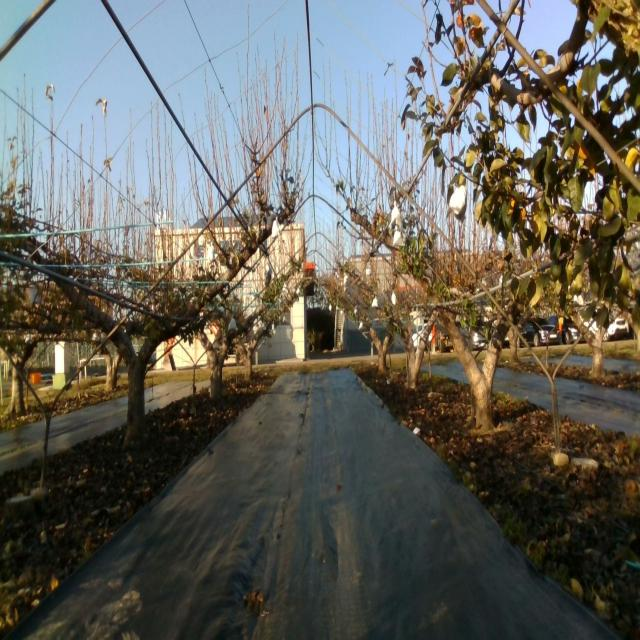pearbags: (450, 184, 467, 221), (389, 202, 402, 226), (392, 225, 406, 247), (207, 244, 218, 264), (272, 217, 282, 238)
